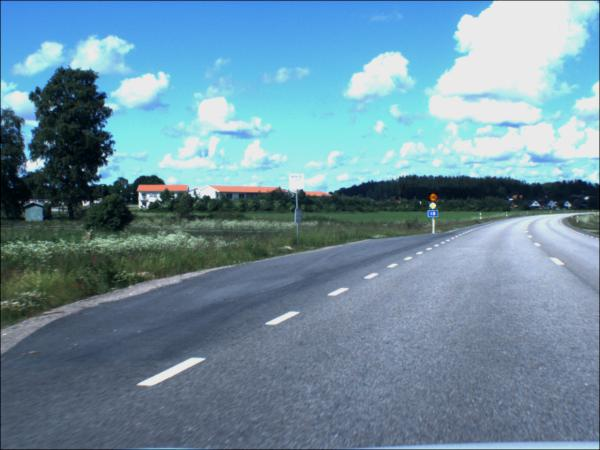80_SIGN: (429, 194, 438, 203)
PRIORITY_ROAD: (429, 204, 437, 211)
